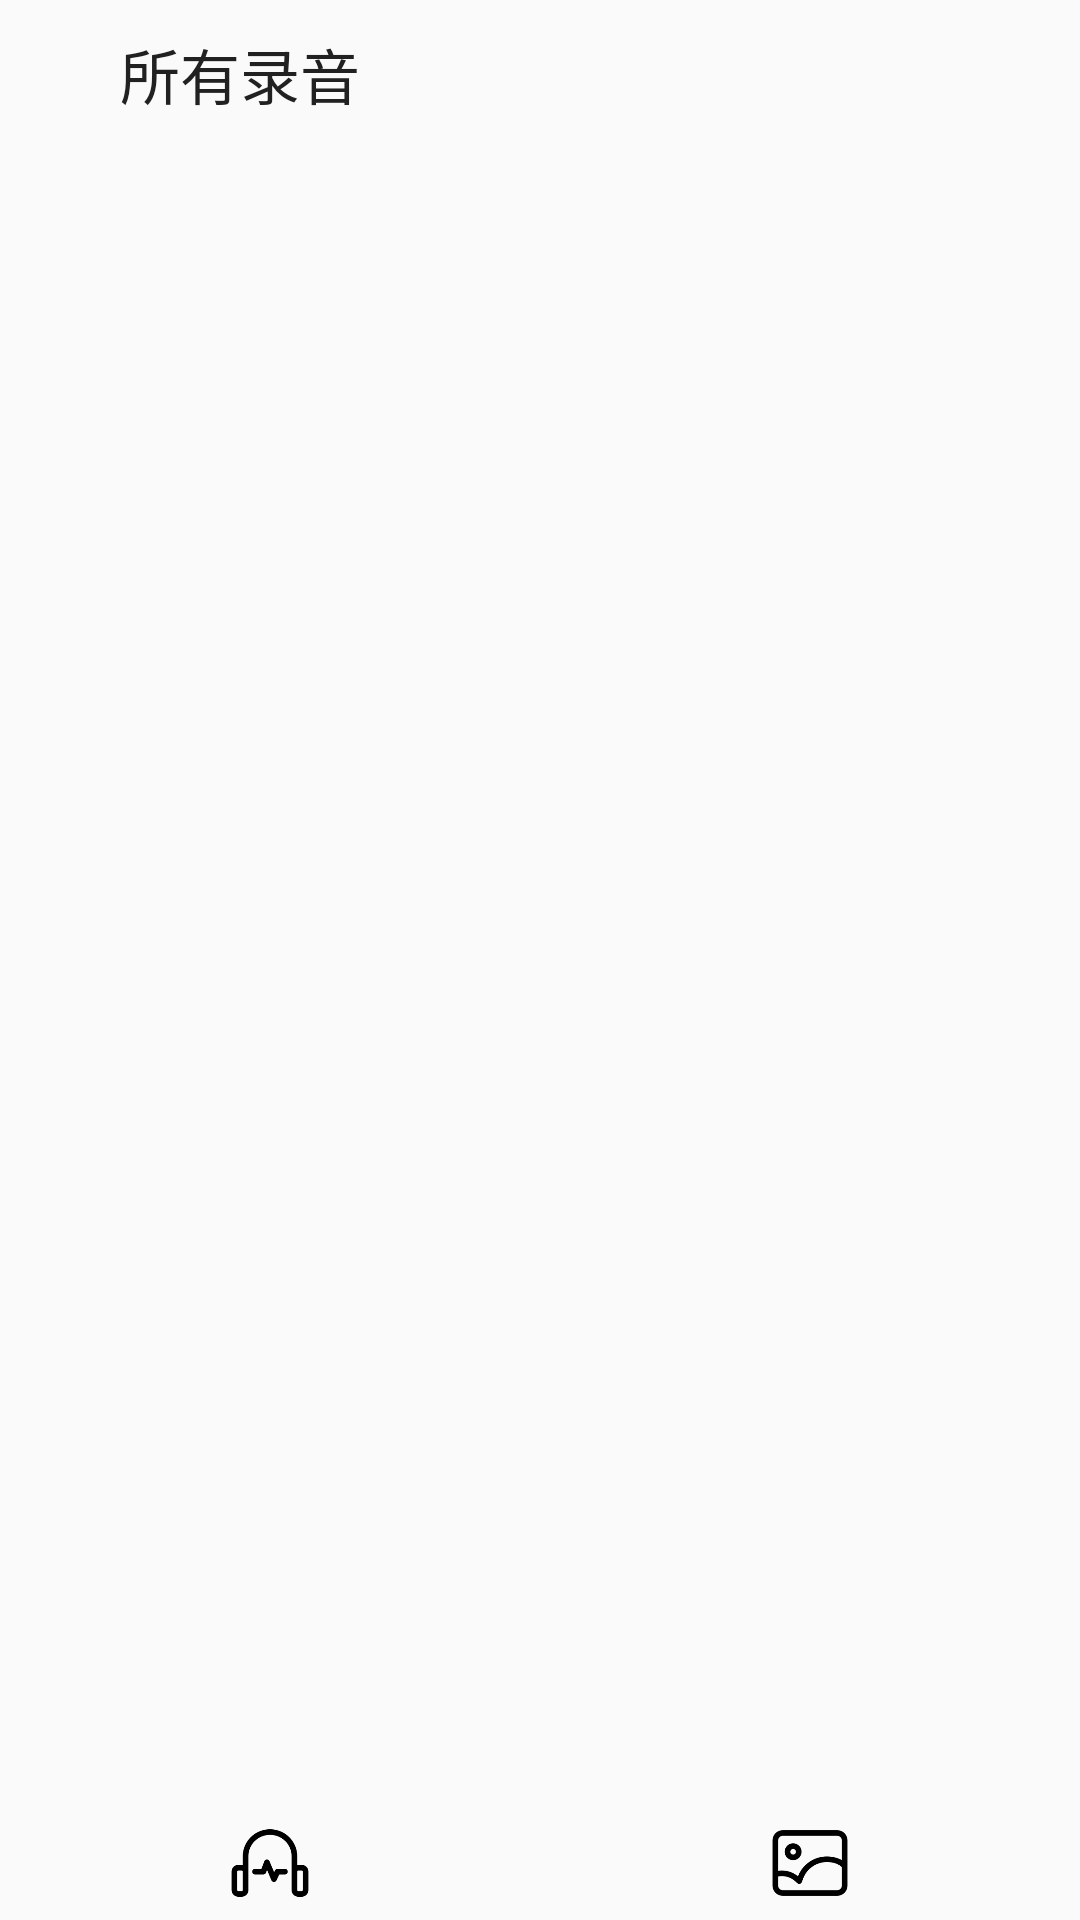

Point at icon controls on the screen. Image size 1080×1920, points as (x,y).
tupian: (810,1863)
yinpin: (270,1863)
